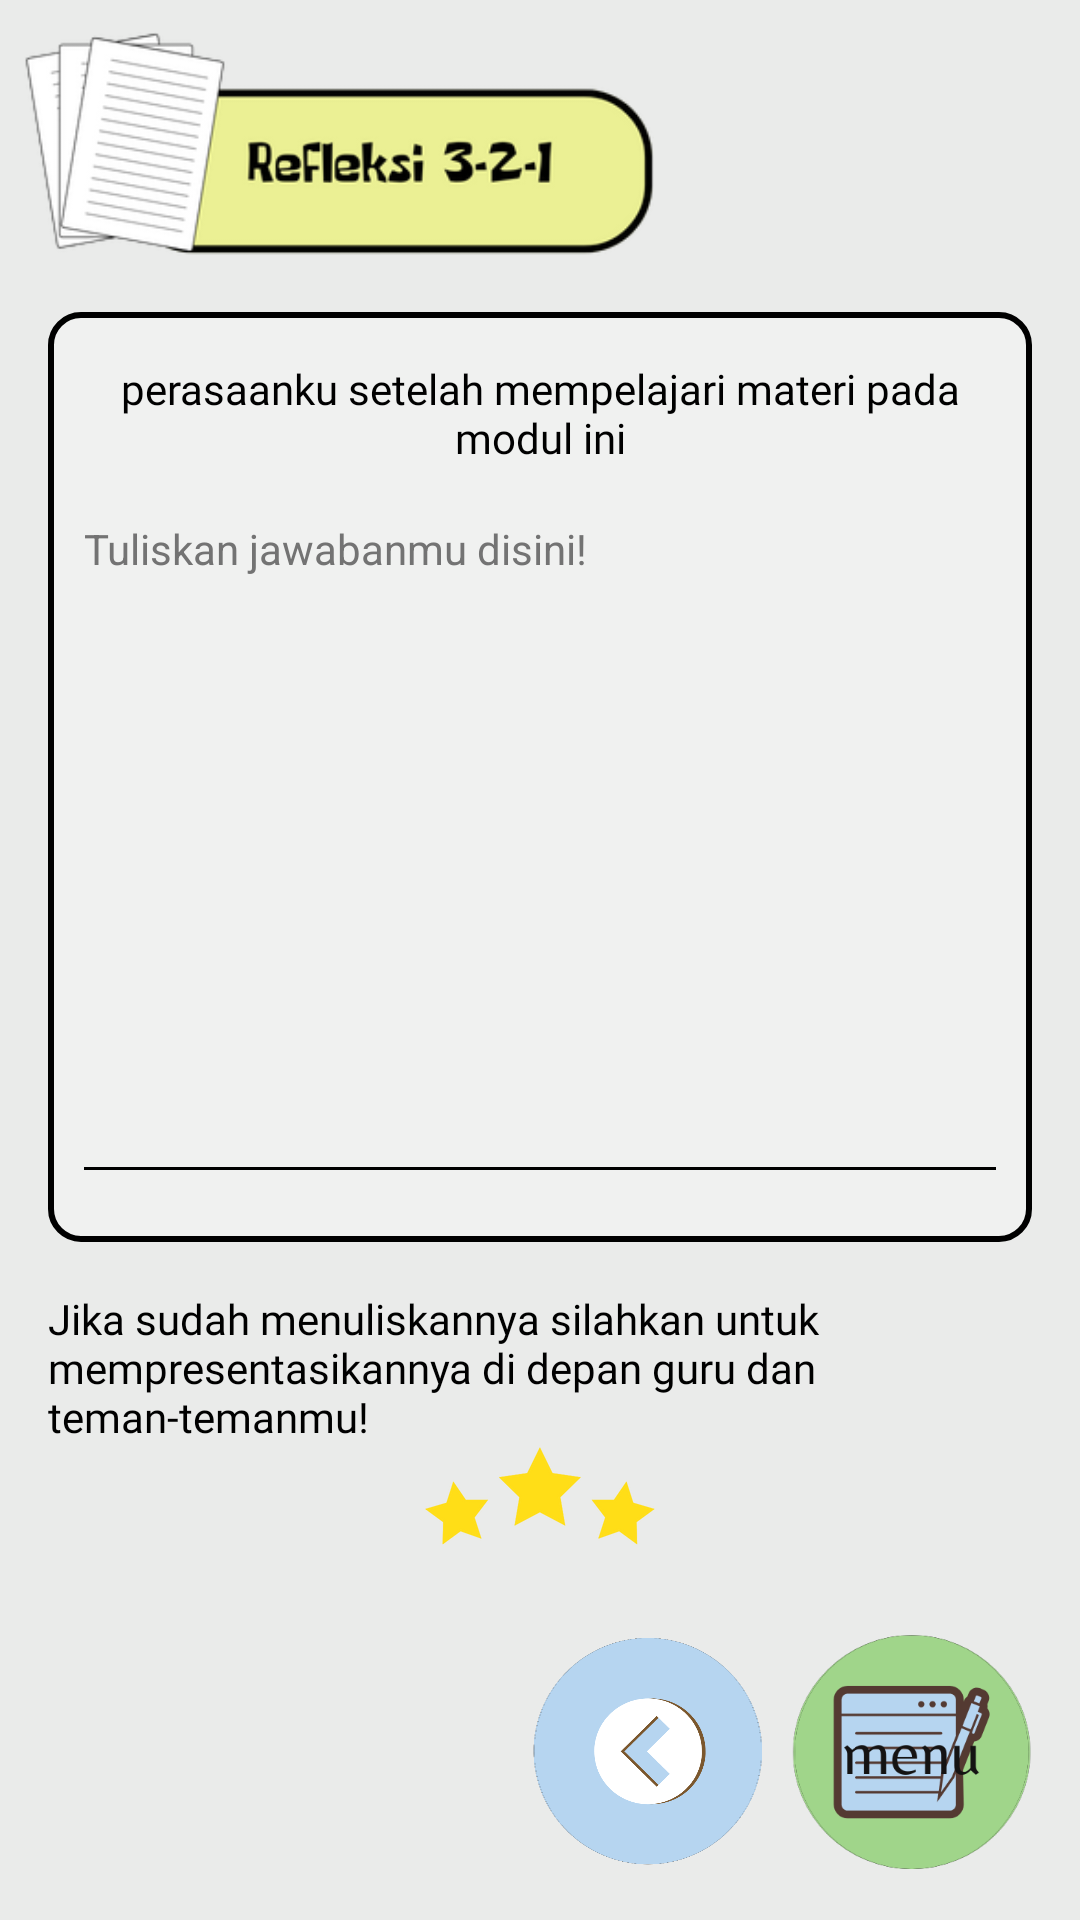

Where to tap for icons on this 1080*1920 app screen, as (x=x, y=y):
assets eughteen stars: (x=540, y=1495)
